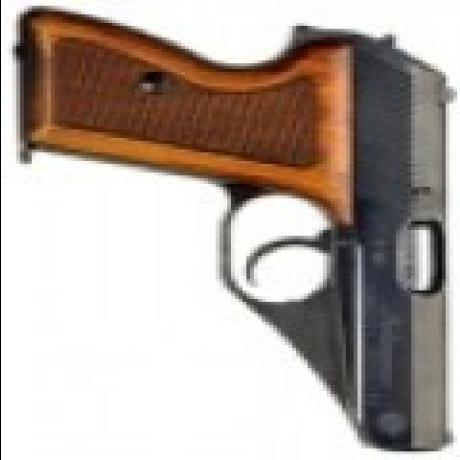weapon: (23, 7, 450, 454)
